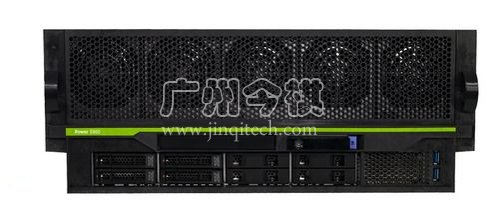ibm-server: (35, 20, 485, 201)
